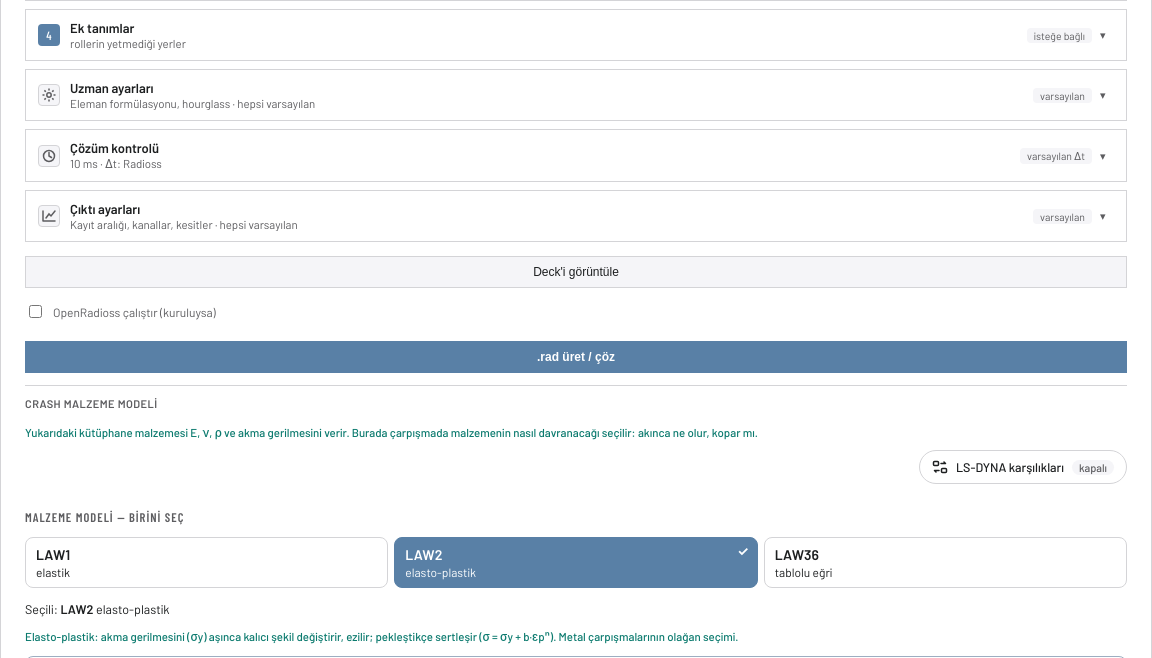
CrashPanel › çözülen işte temas kuvveti grafiğini ve tepe değerini gösterir
The image size is (1152, 658).
(page scrolled)
Click the checkbox labelled "OpenRadioss çalıştır (kuruluysa)".
click(36, 312)  # box [29, 305, 42, 318]
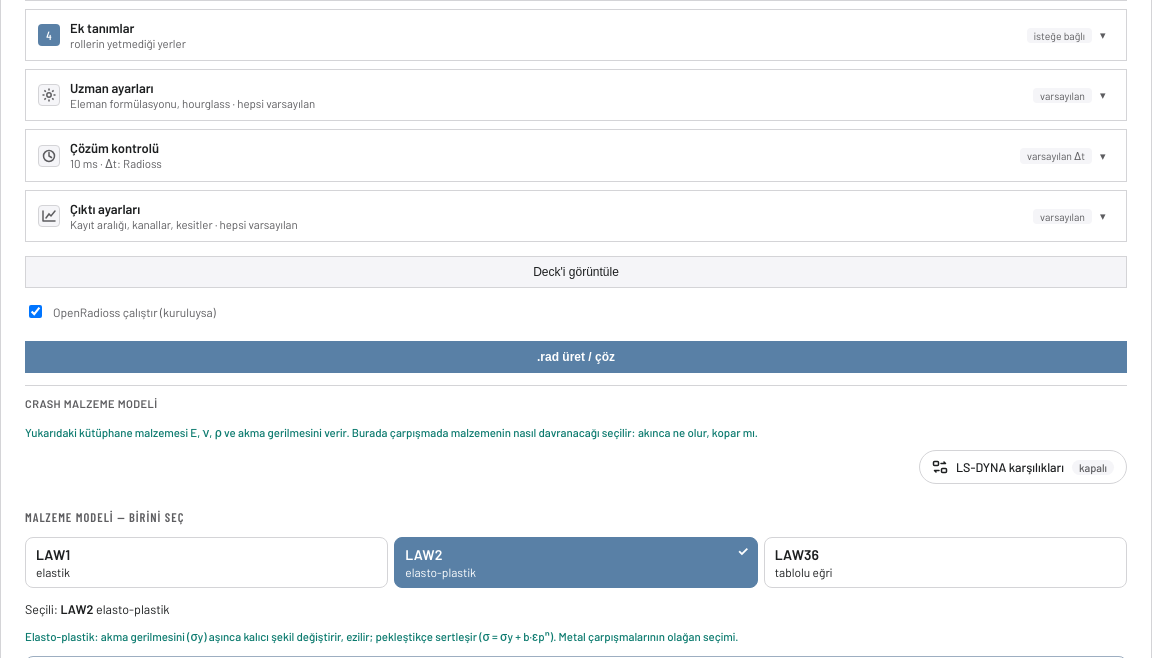
Click the button ".rad üret / çöz".
click(576, 357)  # box [25, 341, 1127, 373]
(page scrolled)
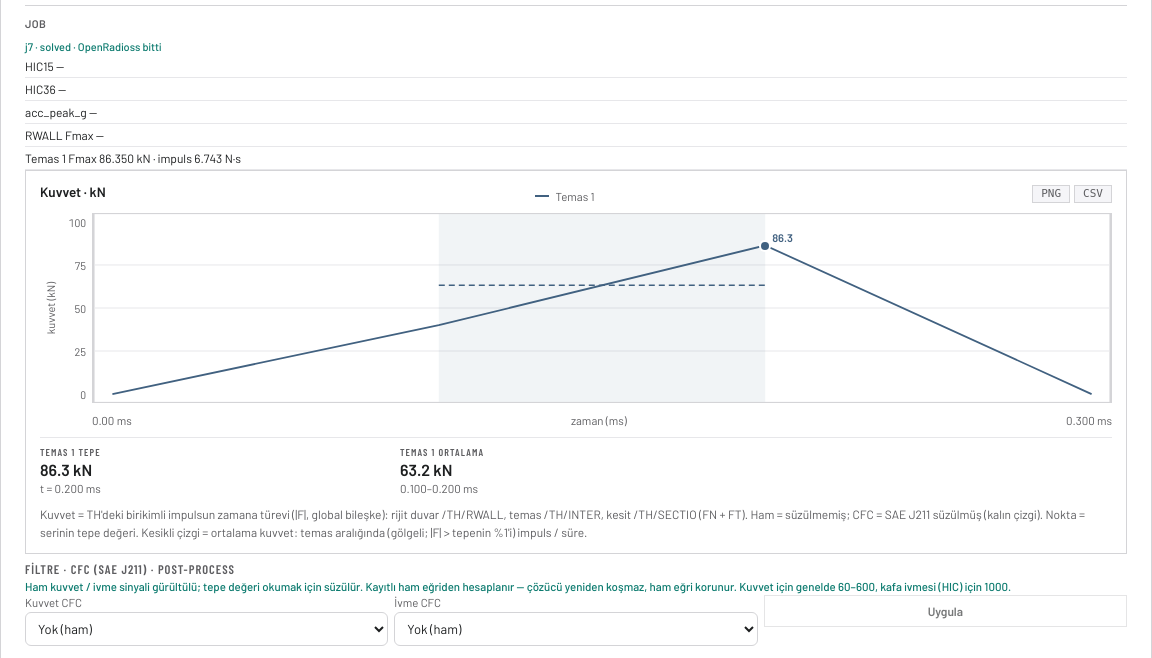
Now the picture named "Kuvvet–zaman grafiği" is shown, box [92, 213, 1112, 403]
Now the list item "Temas 1 Fmax 86.350 kN · impuls 6.743 N·s" is shown, box [25, 147, 1127, 170]
Now the text "Temas 1 tepe" is shown, box [40, 446, 101, 458]
